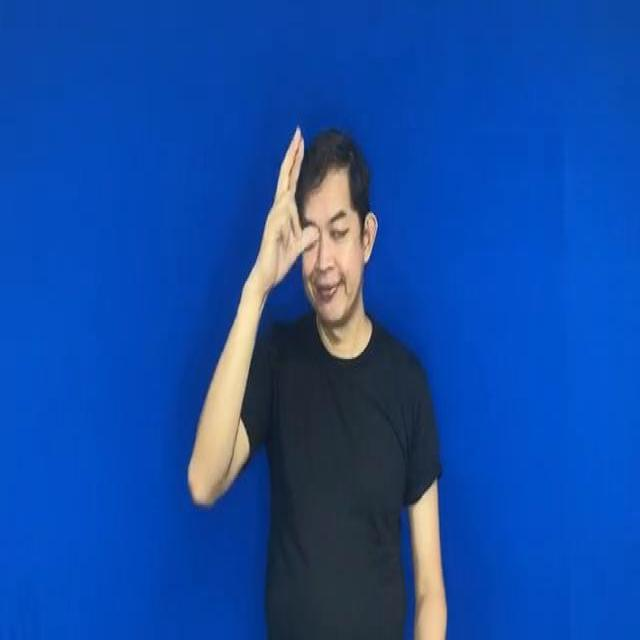chicken: (260, 122, 320, 277)
